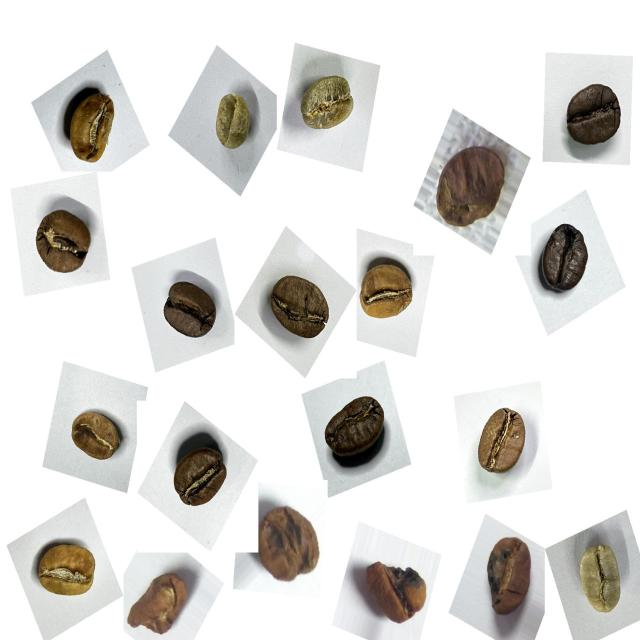bad: (429, 138, 517, 243), (246, 495, 330, 597), (355, 550, 437, 635), (473, 526, 540, 625), (124, 557, 199, 638)
dark: (315, 381, 396, 476), (556, 72, 634, 162), (528, 213, 600, 307), (156, 268, 228, 353)
green: (565, 532, 636, 626), (289, 62, 365, 147), (202, 82, 262, 162)
light: (53, 77, 126, 171), (29, 530, 106, 613), (351, 246, 423, 334)
medium: (24, 202, 101, 292), (261, 265, 339, 352), (466, 397, 538, 487), (165, 434, 237, 521), (63, 402, 130, 475)
